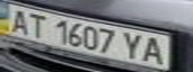0: (81, 24, 100, 52)
1: (48, 17, 72, 45)
6: (66, 20, 84, 48)
7: (97, 26, 118, 55)
A: (139, 34, 172, 65), (3, 6, 33, 34)
T: (24, 11, 51, 38)
Y: (118, 29, 148, 61)
